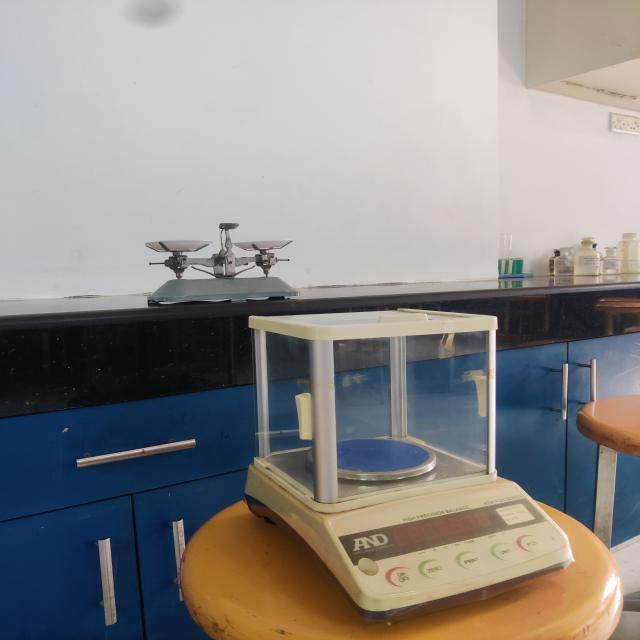Mechanical_Balance_Scale: (116, 200, 319, 329)
Precision_Weight_Scale: (222, 288, 592, 640)
